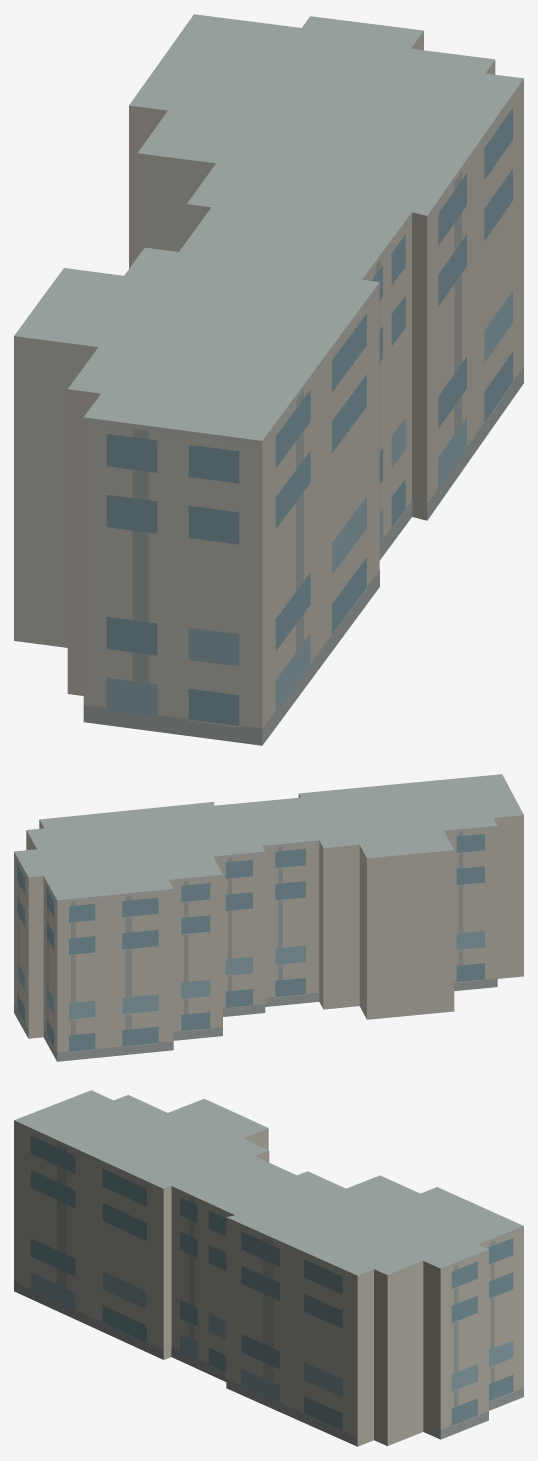
File: residential-f23a0677-e829-4764-a6c6-a858ffe09ad7.glb
The picture shows the model from 3 angles, top to bottom: view 1: azimuth 30°, elevation 25°; view 2: azimuth 150°, elevation 25°; view 3: azimuth 270°, elevation 25°; orthographic projection. The views are drawn at different scales.
Visible parts, largest first — view 1: residential-f23a0677-e829-4764-a6c6-a858ffe09ad7.tmp; view 2: residential-f23a0677-e829-4764-a6c6-a858ffe09ad7.tmp; view 3: residential-f23a0677-e829-4764-a6c6-a858ffe09ad7.tmp.
Part boxes in pixels (x1,y1,x2,y2): residential-f23a0677-e829-4764-a6c6-a858ffe09ad7.tmp: (14, 14, 523, 745); residential-f23a0677-e829-4764-a6c6-a858ffe09ad7.tmp: (14, 774, 523, 1061); residential-f23a0677-e829-4764-a6c6-a858ffe09ad7.tmp: (14, 1090, 523, 1446).
Size of the model in its own units: 35.48 by 15.25 by 41.21.
